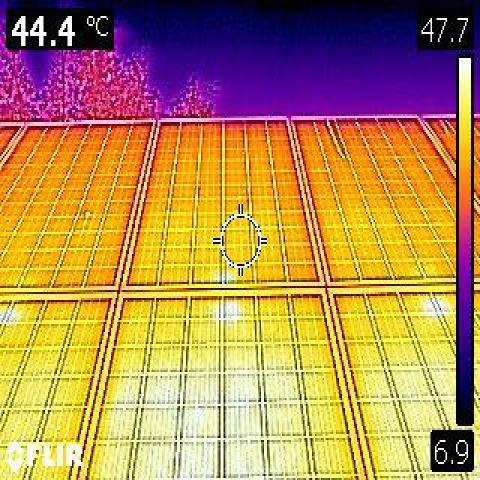fault: (424, 293, 450, 318), (216, 301, 240, 322), (0, 303, 17, 323)
